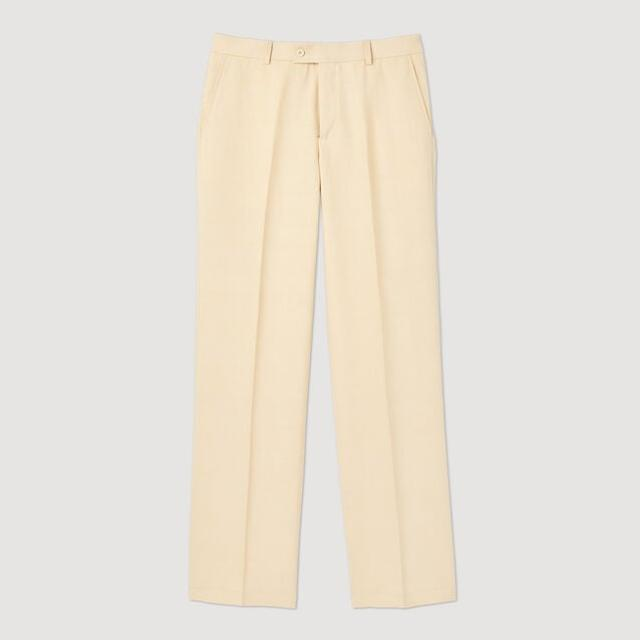long-pants: (189, 33, 458, 616)
